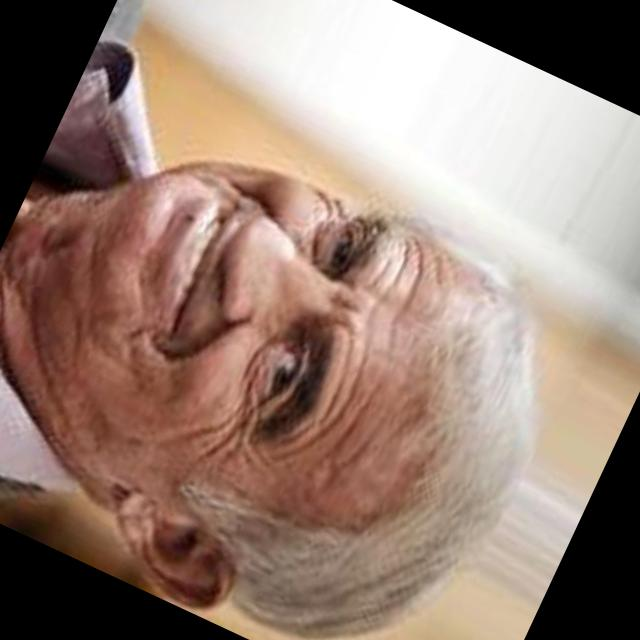bareface: (0, 114, 559, 640)
